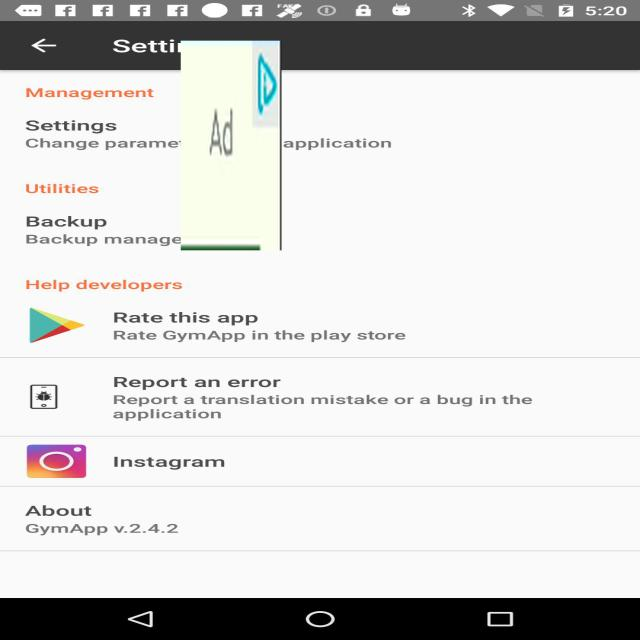sneaking: (181, 41, 281, 250)
